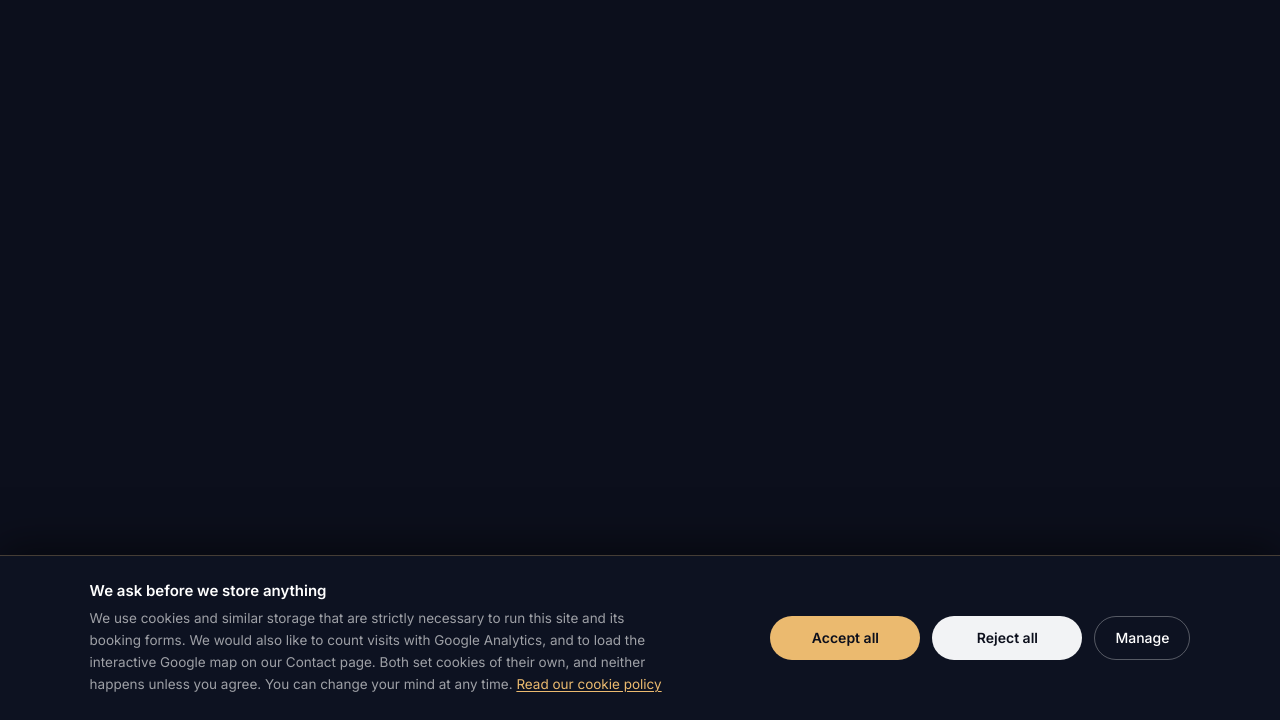
it: CookieConsent › opens preferences with Analytics pre-selected, and Functional still off
This screenshot has width=1280, height=720.
Check: the button "Accept all" is shown, box [770,616,920,660]
Click the button "Manage" at (1142, 638), box [1094,616,1190,660]
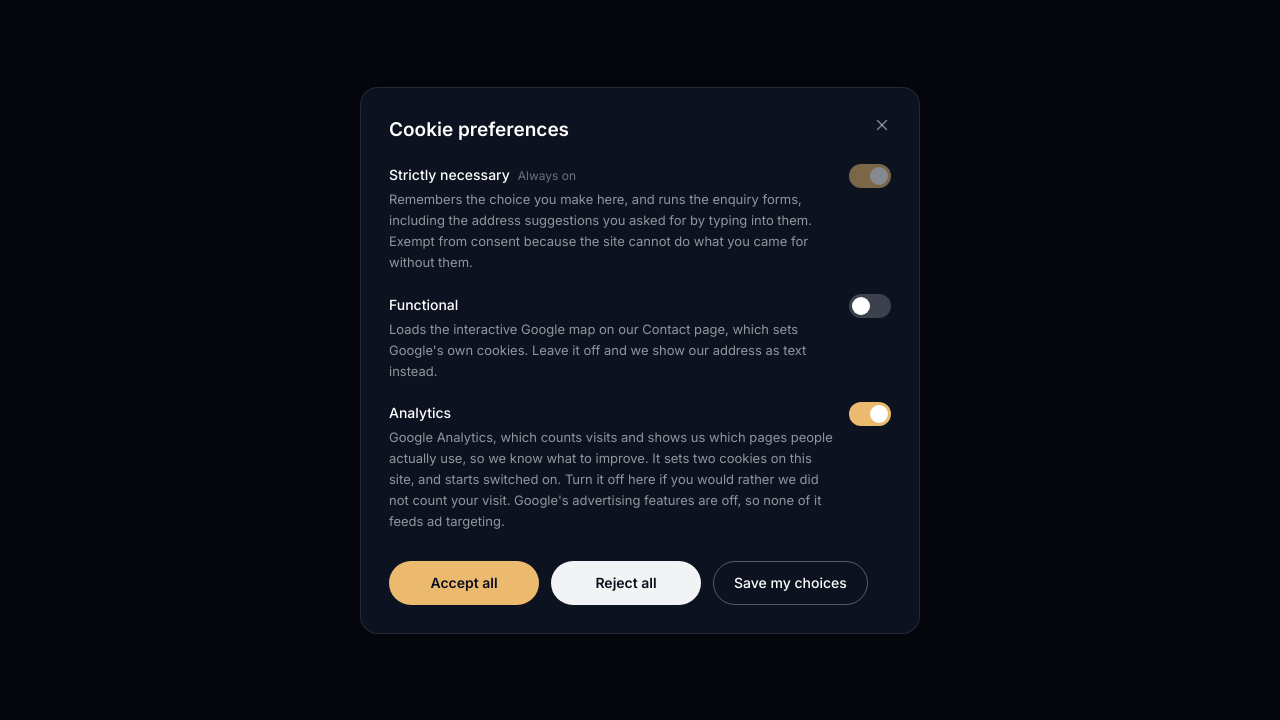
Check: the number of switches is 3, box [849,164,891,188]; [849,294,891,318]; [849,402,891,426]
Check: the switch named "Strictly necessary" is disabled, box [849,164,891,188]
